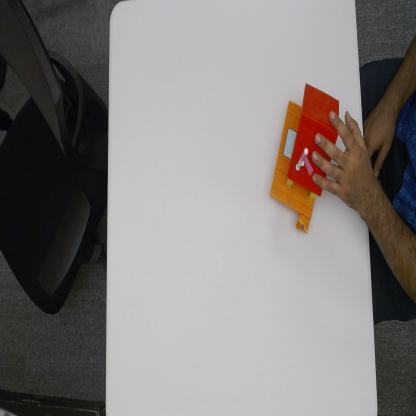Hand: (314, 111, 366, 213)
House: (276, 81, 339, 230)
